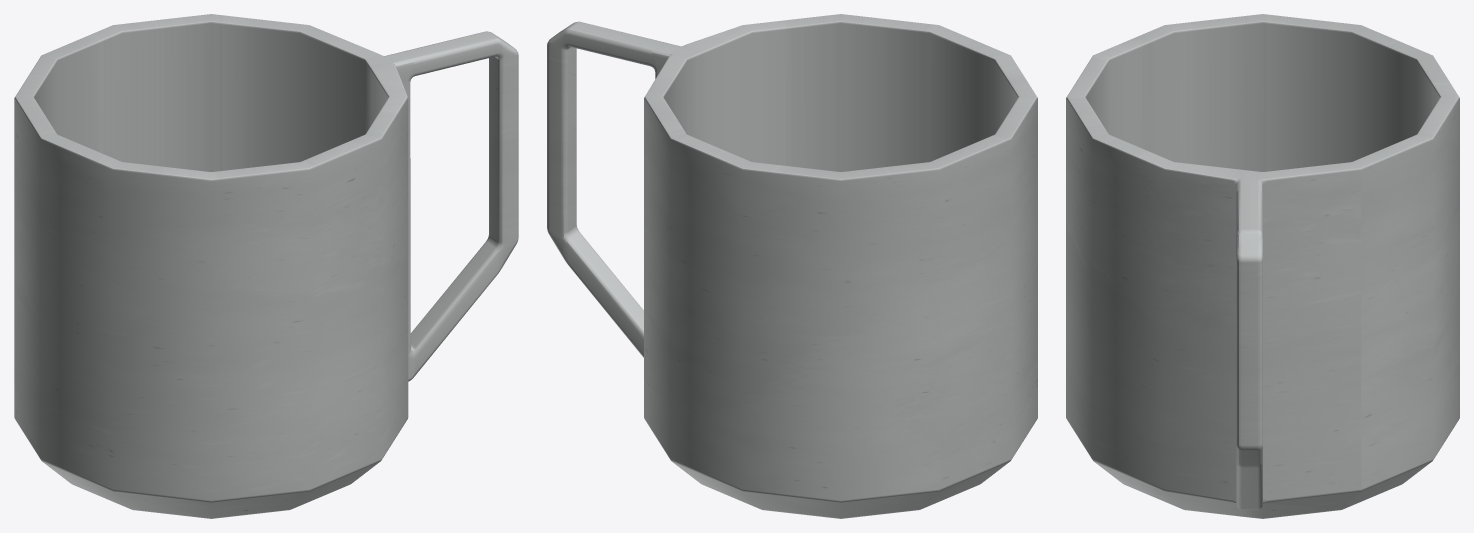
File: cup.fbx
The picture shows the model from 3 angles, left to right: view 1: azimuth 30°, elevation 25°; view 2: azimuth 150°, elevation 25°; view 3: azimuth 270°, elevation 25°; orthographic projection.
Visible parts, largest first — view 1: cup; view 2: cup; view 3: cup.
Part boxes in pixels (x1,y1,x2,y2): cup: [14, 14, 518, 518]; cup: [547, 14, 1037, 518]; cup: [1066, 14, 1459, 518].
Bounding box in the file's own units: 0.0058 × 0.00425 × 0.00425.
Materials: 1 (1 with a texture image).
